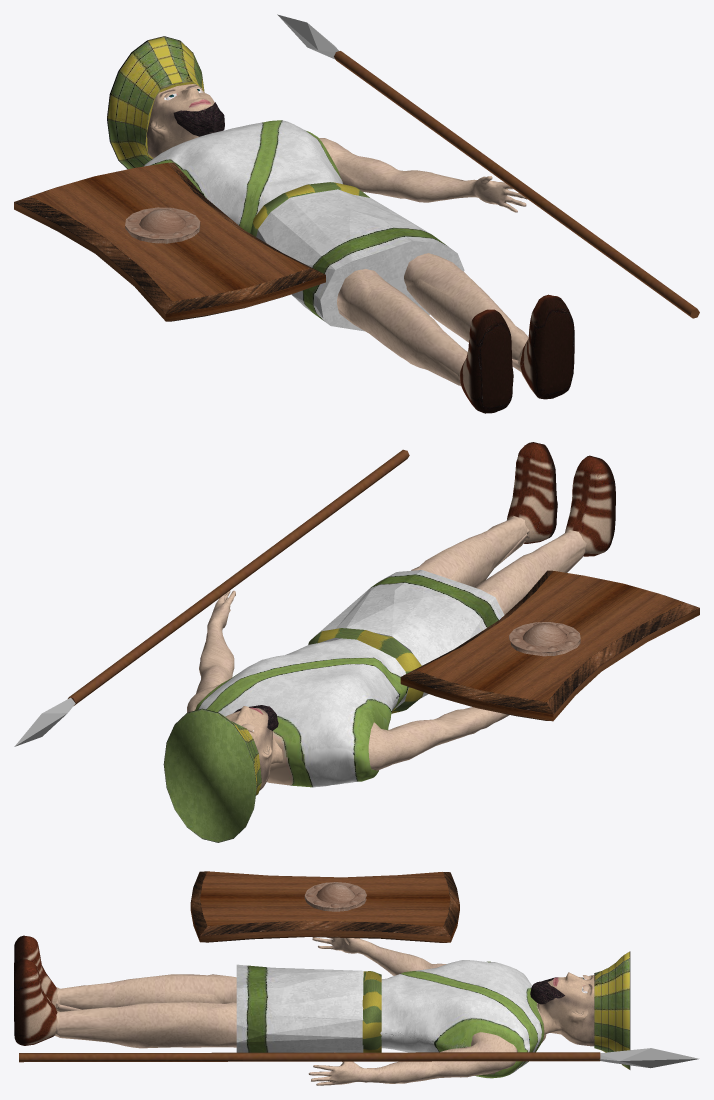
The picture shows the model from 3 angles, top to bottom: view 1: azimuth 30°, elevation 25°; view 2: azimuth 150°, elevation 25°; view 3: azimuth 270°, elevation 25°; orthographic projection. The views are drawn at different scales.
Visible parts, largest first — view 1: Tarcza, Skirt, Shirt1, RightLeg, Helmet, LeftArm, LeftLeg, Cylinder001, ShoeLeft, ShoeLeft001, Head, Pierscien Tarczy001 (+4 smaller); view 2: Tarcza, Shirt1, Helmet, Skirt, Cylinder001, RightArm, LeftLeg, ShoeLeft001, ShoeLeft, RightLeg, LeftArm, Belt (+4 smaller); view 3: Tarcza, Shirt1, Skirt, LeftLeg, Cylinder001, RightLeg, LeftArm, Helmet, Head, ShoeLeft, RightArm, Belt (+5 smaller).
Part boxes in pixels (left/top/right/bottom): Tarcza: left=14, top=162, right=325, bottom=321; Skirt: left=256, top=189, right=464, bottom=331; Shirt1: left=144, top=120, right=342, bottom=233; RightLeg: left=337, top=269, right=467, bottom=385; Helmet: left=107, top=36, right=204, bottom=169; LeftArm: left=319, top=138, right=527, bottom=212; LeftLeg: left=404, top=253, right=528, bottom=371; Cylinder001: left=334, top=51, right=699, bottom=318; ShoeLeft: left=519, top=294, right=574, bottom=399; ShoeLeft001: left=459, top=309, right=513, bottom=413; Head: left=147, top=84, right=214, bottom=158; Pierscien Tarczy001: left=125, top=207, right=200, bottom=243; Tarcza: left=400, top=570, right=699, bottom=721; Shirt1: left=195, top=638, right=408, bottom=787; Helmet: left=163, top=708, right=261, bottom=842; Skirt: left=315, top=570, right=504, bottom=708; Cylinder001: left=68, top=449, right=409, bottom=705; RightArm: left=368, top=707, right=509, bottom=770; LeftLeg: left=411, top=516, right=529, bottom=587; ShoeLeft001: left=565, top=455, right=615, bottom=556; ShoeLeft: left=506, top=442, right=557, bottom=543; RightLeg: left=475, top=530, right=586, bottom=614; LeftArm: left=187, top=590, right=235, bottom=712; Belt: left=308, top=628, right=423, bottom=713; Tarcza: left=190, top=871, right=459, bottom=942; Shirt1: left=380, top=960, right=546, bottom=1078; Skirt: left=236, top=964, right=363, bottom=1052; LeftLeg: left=55, top=1002, right=236, bottom=1048; Cylinder001: left=19, top=1052, right=600, bottom=1062; RightLeg: left=56, top=974, right=236, bottom=1011; LeftArm: left=308, top=1032, right=517, bottom=1085; Helmet: left=594, top=951, right=630, bottom=1069; Head: left=537, top=972, right=594, bottom=1046; ShoeLeft: left=14, top=959, right=57, bottom=1045; RightArm: left=312, top=937, right=446, bottom=975; Belt: left=362, top=971, right=381, bottom=1052.
Size of the model in its own units: 18.35 by 5.79 by 30.92.
13 materials, 12 textured.
